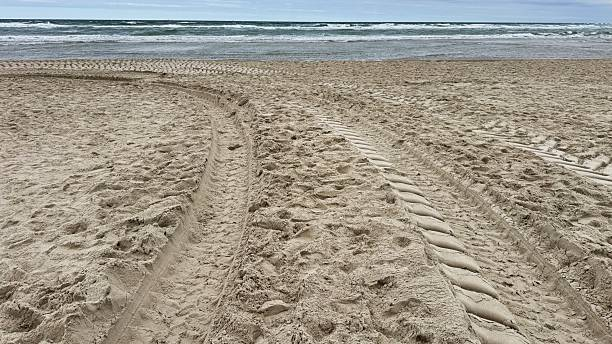vehicle_track: (363, 123, 609, 341), (104, 107, 250, 342)
